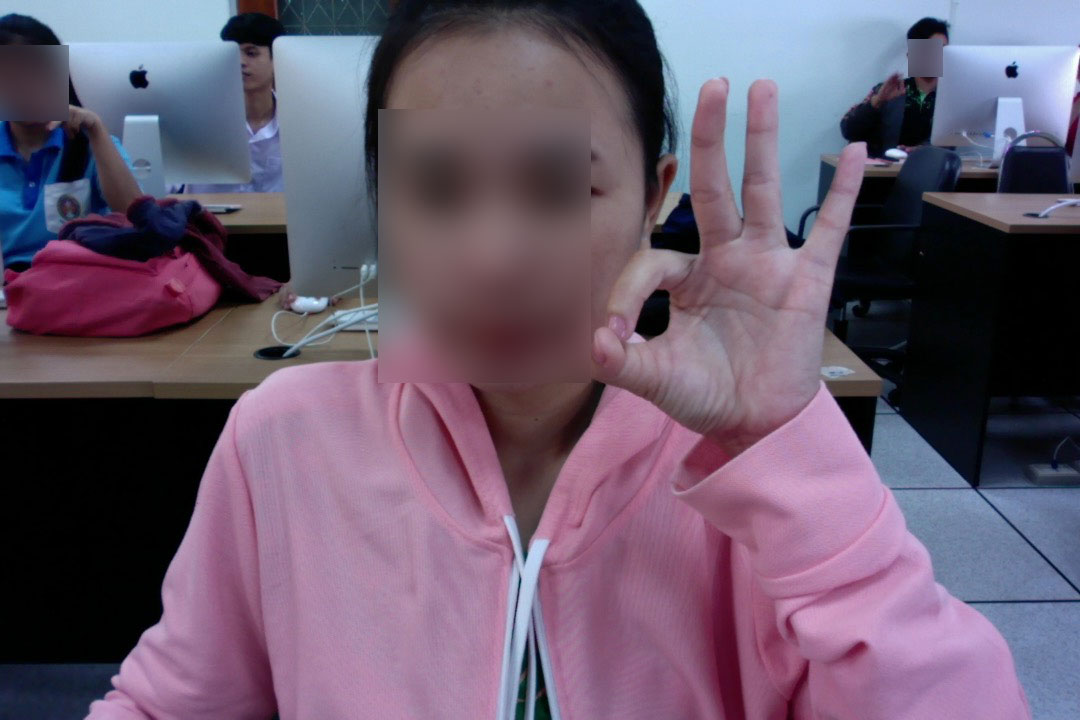for: (580, 66, 890, 454)
